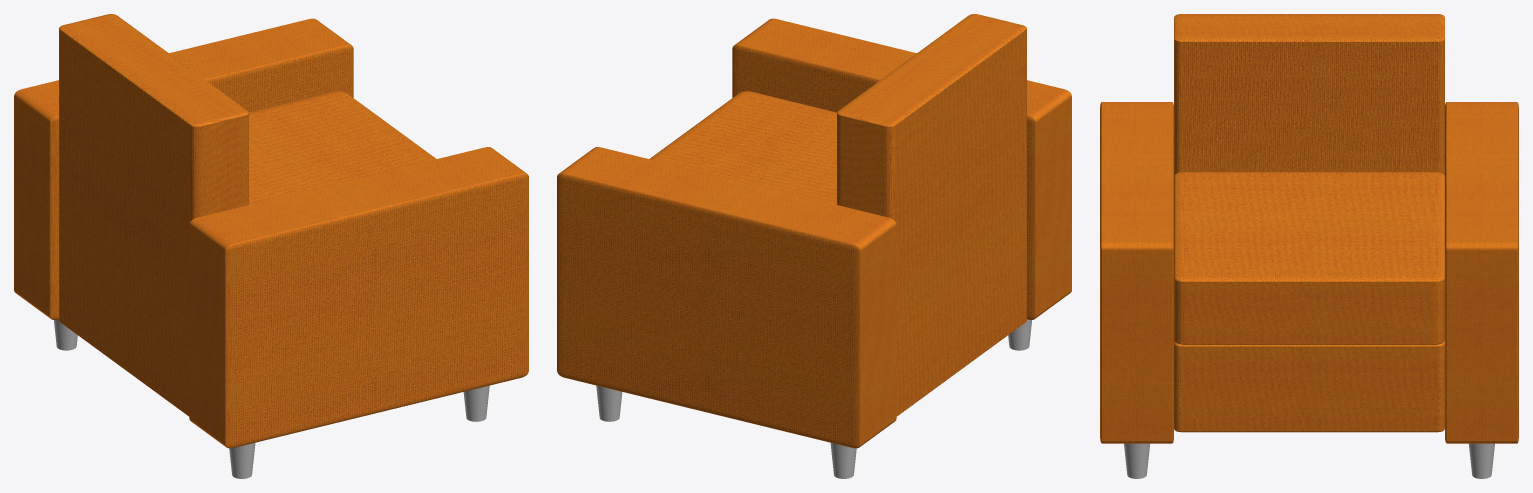
File: orangearmchair.fbx
The picture shows the model from 3 angles, left to right: view 1: azimuth 30°, elevation 25°; view 2: azimuth 150°, elevation 25°; view 3: azimuth 270°, elevation 25°; orthographic projection.
Visible parts, largest first — view 1: Cube, Cube.006, Cube.003, Cube.005, Cylinder, Cylinder.001; view 2: Cube.003, Cube.006, Cube, Cube.005, Cylinder.002, Cylinder.003; view 3: Cube.005, Cube.006, Cube, Cube.003, Cube.001, Cylinder, Cylinder.002.
Boxes of the visible parts, x1=… form: Cube: x1=189, y1=147, x2=528, y2=448; Cube.006: x1=59, y1=14, x2=248, y2=416; Cube.003: x1=14, y1=18, x2=353, y2=319; Cube.005: x1=249, y1=91, x2=436, y2=204; Cylinder: x1=463, y1=385, x2=489, y2=421; Cylinder.001: x1=229, y1=443, x2=255, y2=478; Cube.003: x1=557, y1=147, x2=896, y2=448; Cube.006: x1=837, y1=14, x2=1026, y2=416; Cube: x1=732, y1=18, x2=1071, y2=319; Cube.005: x1=649, y1=91, x2=836, y2=204; Cylinder.002: x1=596, y1=385, x2=622, y2=421; Cylinder.003: x1=830, y1=443, x2=856, y2=478; Cube.005: x1=1174, y1=172, x2=1444, y2=344; Cube.006: x1=1174, y1=14, x2=1444, y2=175; Cube: x1=1100, y1=102, x2=1173, y2=443; Cube.003: x1=1445, y1=102, x2=1518, y2=443; Cube.001: x1=1174, y1=340, x2=1444, y2=432; Cylinder: x1=1124, y1=443, x2=1149, y2=478; Cylinder.002: x1=1469, y1=443, x2=1494, y2=478.
Bounding box in the file's own units: 71.31 × 76.59 × 86.59.
Materials: 2 (1 with a texture image).
